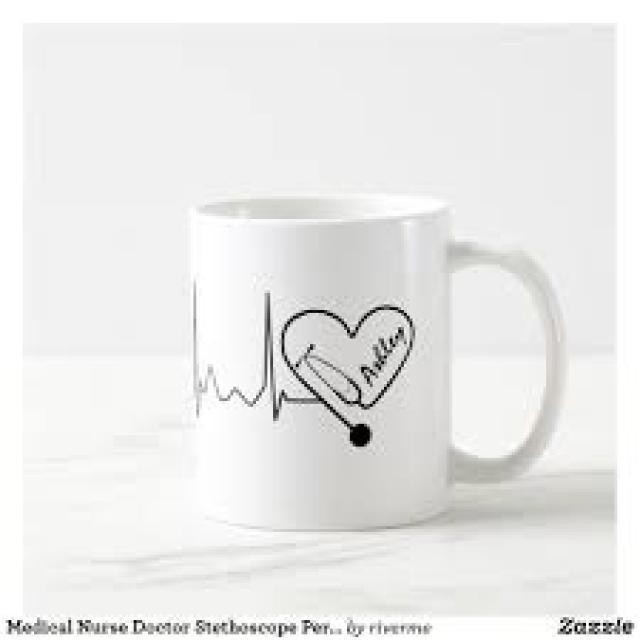taza: (172, 177, 578, 525)
